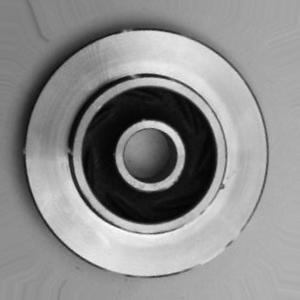defect: (210, 151, 254, 201)
